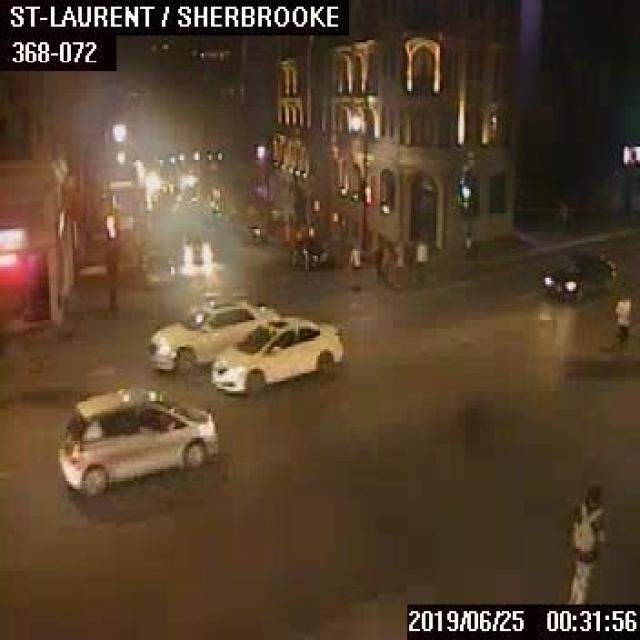construction: (280, 223, 287, 244)
pedestrian: (560, 480, 609, 602), (613, 289, 631, 349), (345, 241, 363, 289), (376, 238, 390, 286), (413, 233, 427, 280), (392, 239, 405, 284)
vehicle: (56, 386, 216, 496), (210, 316, 342, 391), (144, 300, 278, 371), (542, 247, 620, 300), (287, 236, 327, 266), (140, 251, 173, 285), (181, 233, 211, 263), (244, 219, 267, 240)
